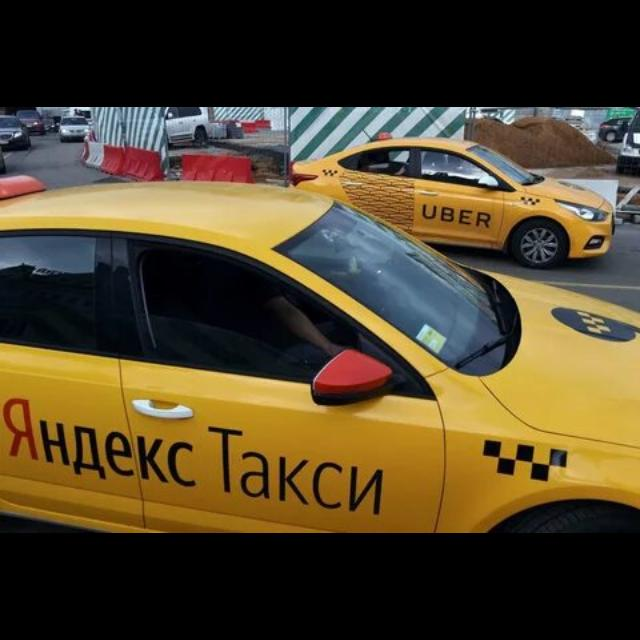taxi: (1, 173, 639, 533), (288, 134, 616, 271)
